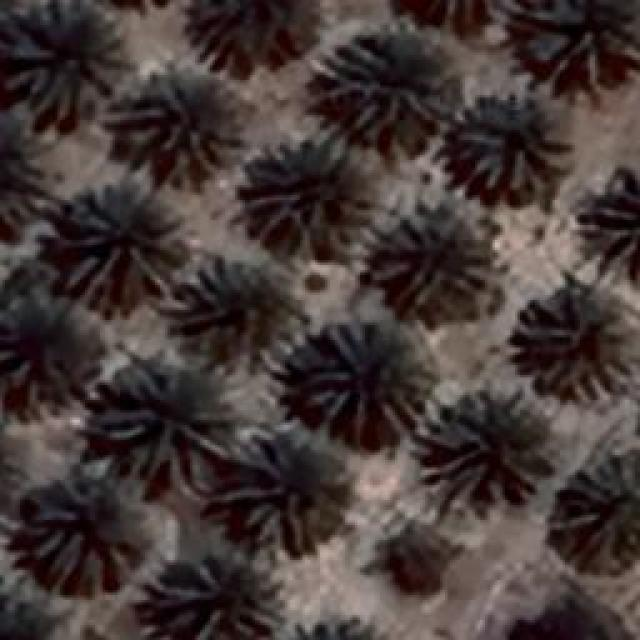PalmTree: (237, 130, 385, 260), (315, 25, 460, 150), (59, 180, 192, 312), (412, 385, 552, 510), (22, 460, 150, 592), (118, 60, 248, 188), (220, 430, 352, 552), (370, 190, 492, 320), (175, 258, 310, 372), (512, 282, 638, 402), (302, 320, 430, 438), (70, 35, 254, 117), (2, 5, 130, 120), (103, 365, 230, 480), (450, 85, 572, 200), (148, 547, 282, 635), (5, 301, 90, 409), (560, 455, 638, 565), (515, 0, 635, 62), (376, 523, 454, 598), (587, 172, 635, 290), (510, 601, 618, 640), (0, 575, 58, 640), (398, 0, 528, 26), (270, 614, 398, 640), (0, 410, 27, 516), (28, 117, 70, 175)
